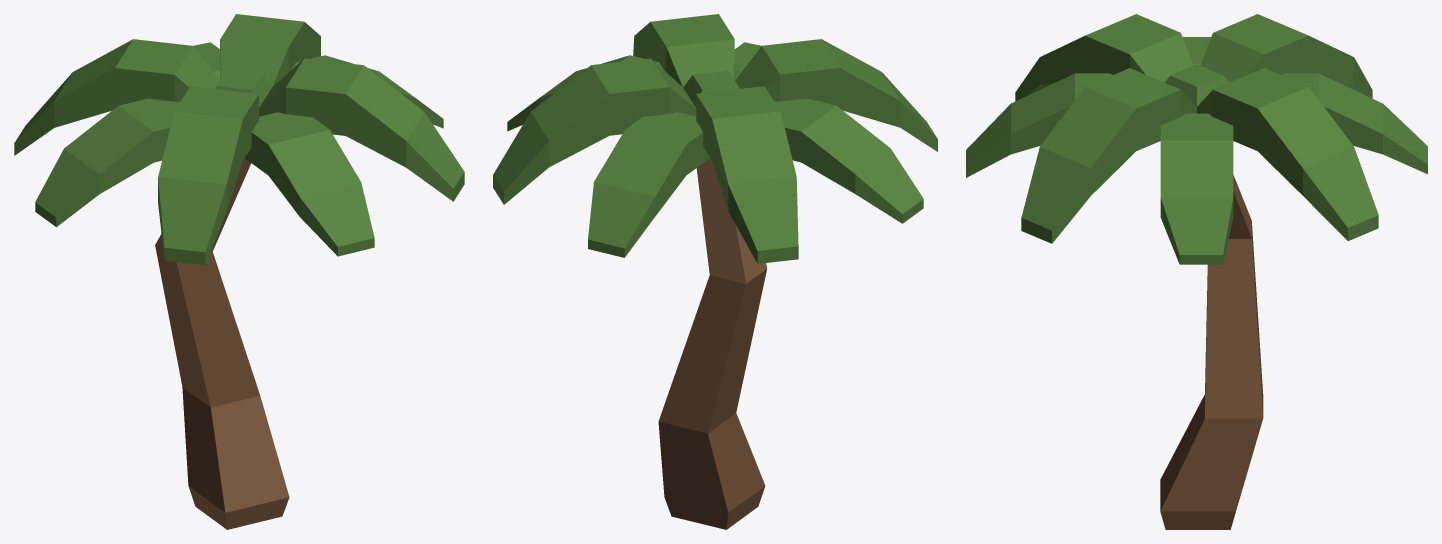
The model's file is tree-palmB.glb.
The picture shows the model from 3 angles, left to right: view 1: azimuth 30°, elevation 25°; view 2: azimuth 150°, elevation 25°; view 3: azimuth 270°, elevation 25°; orthographic projection. The views are drawn at different scales.
Parts seen in each view (by area): view 1: leafs (×2), Mesh tree_palmDetailedShort; view 2: leafs (×2), Mesh tree_palmDetailedShort; view 3: leafs (×2), Mesh tree_palmDetailedShort.
Boxes of the visible parts, box(x1,y1,x2,y2) form: leafs (×2): box(14, 14, 464, 265); Mesh tree_palmDetailedShort: box(155, 158, 289, 529); leafs (×2): box(493, 14, 937, 263); Mesh tree_palmDetailedShort: box(658, 158, 767, 529); leafs (×2): box(966, 14, 1427, 264); Mesh tree_palmDetailedShort: box(1160, 175, 1263, 529).
Bounding box in the file's own units: 1.03 × 1.12 × 1.03.
